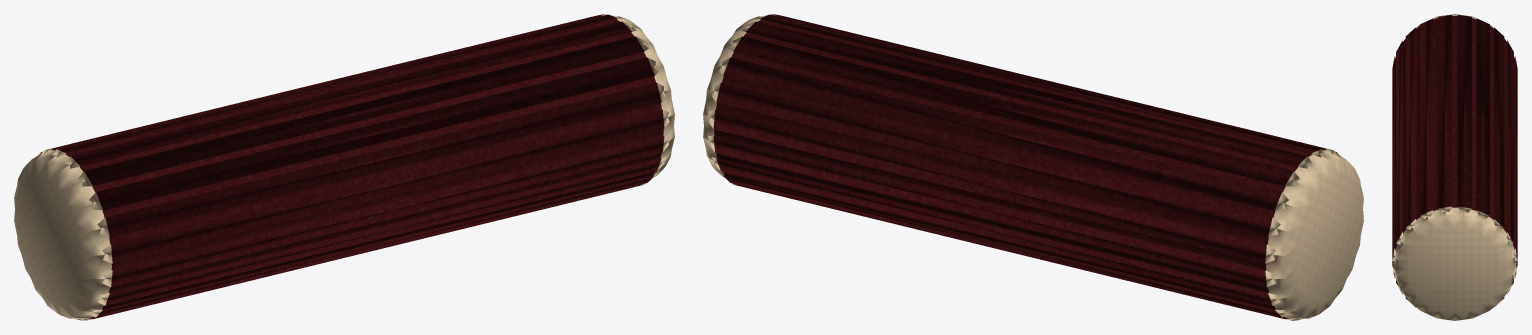
The model's file is modern_cushion_03.glb.
3 views of the same model, side by side, from view 1: azimuth 30°, elevation 25°; view 2: azimuth 150°, elevation 25°; view 3: azimuth 270°, elevation 25° (orthographic). The views are drawn at different scales.
Parts seen in each view (by area): view 1: modern_cushion_03; view 2: modern_cushion_03; view 3: modern_cushion_03.
Part boxes in pixels (x1=…): modern_cushion_03: x1=14, y1=14, x2=674, y2=320; modern_cushion_03: x1=703, y1=14, x2=1363, y2=320; modern_cushion_03: x1=1392, y1=14, x2=1517, y2=320.
Size of the model in its own units: 0.85 by 0.2186 by 0.2186.
2 materials, 2 textured.
